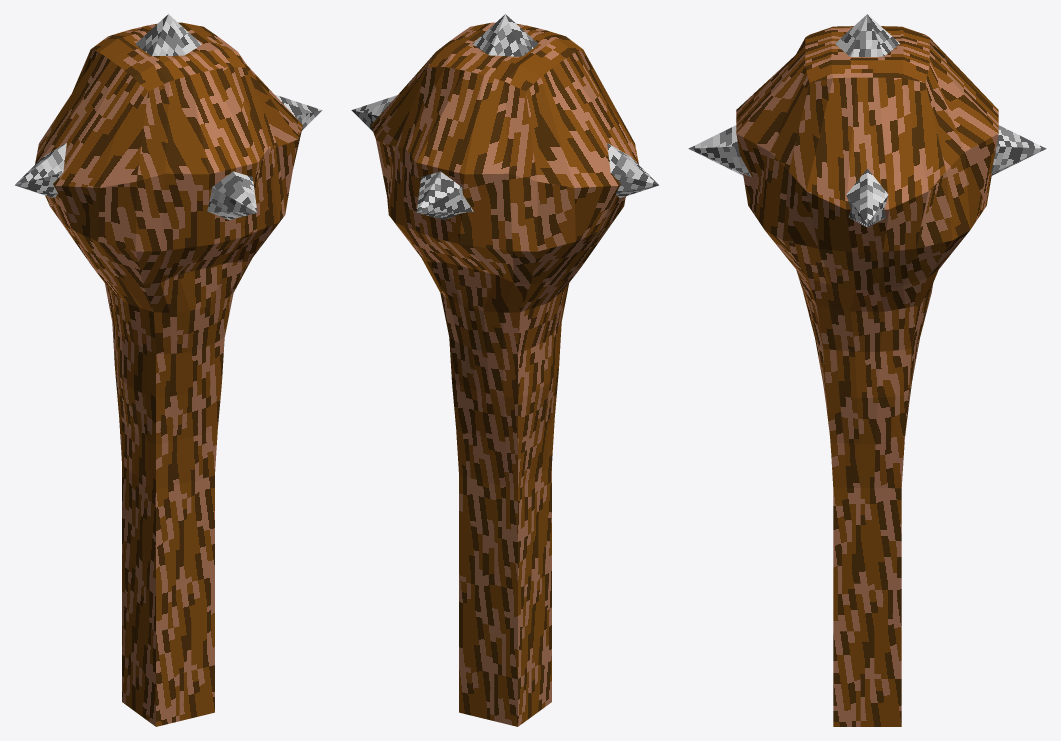
File: mace.fbx
The picture shows the model from 3 angles, left to right: view 1: azimuth 30°, elevation 25°; view 2: azimuth 150°, elevation 25°; view 3: azimuth 270°, elevation 25°; orthographic projection.
Visible parts, largest first — view 1: left; view 2: left; view 3: left.
Boxes of the visible parts, x1,y1,x2,y2 form: left: (15, 14, 322, 726); left: (351, 14, 658, 726); left: (688, 14, 1046, 726).
Bounding box in the file's own units: 52.35 × 113 × 52.35.
Materials: 2 (2 with a texture image).
